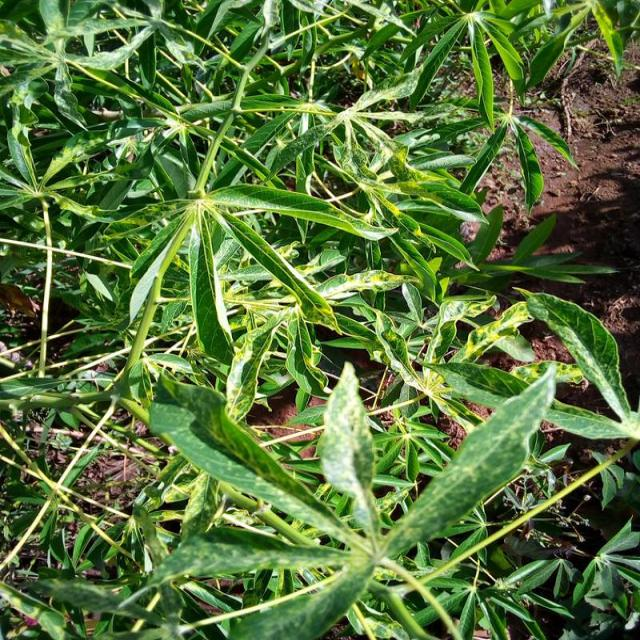Mosaico: (111, 180, 294, 305), (347, 304, 543, 416), (218, 274, 333, 405), (196, 382, 310, 500), (24, 125, 138, 227), (548, 0, 625, 62)
